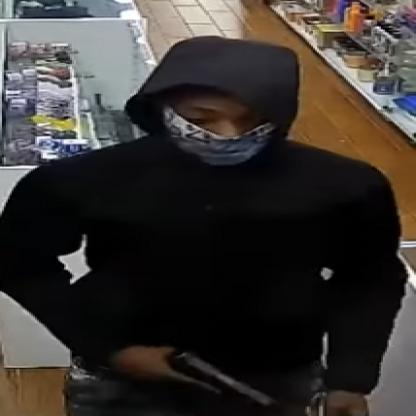criminal: (0, 35, 409, 416)
weapon: (161, 342, 273, 416)
